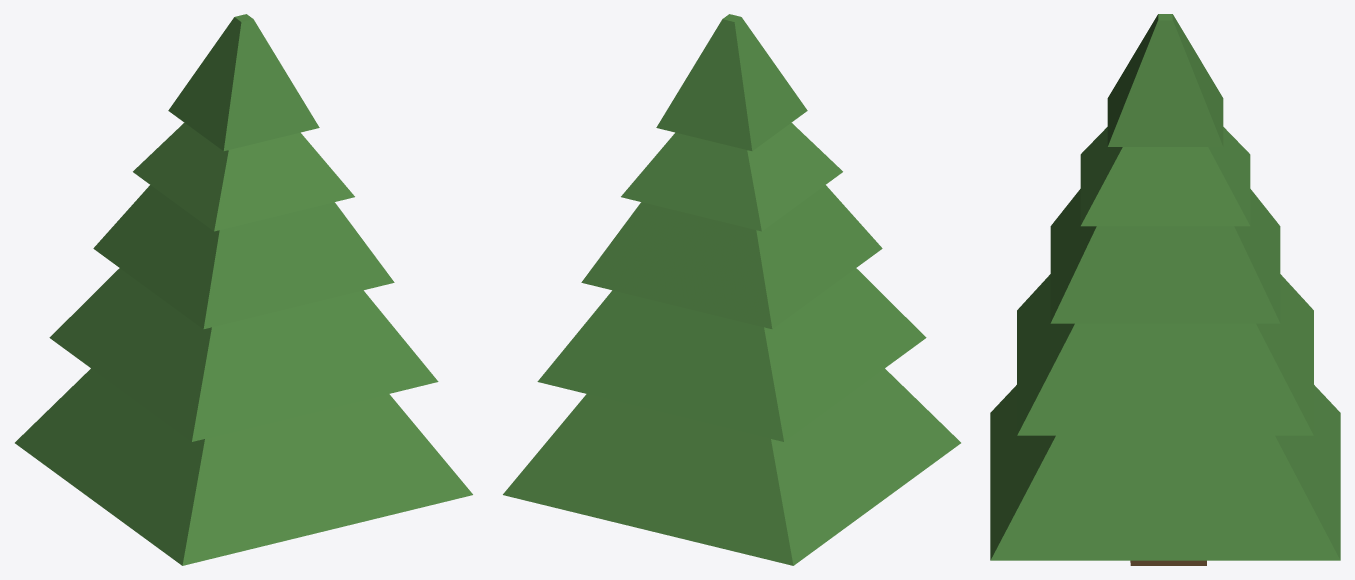
The model's file is tree3d-156.glb.
3 renders of one model, left to right at view 1: azimuth 30°, elevation 25°; view 2: azimuth 150°, elevation 25°; view 3: azimuth 270°, elevation 25°, orthographic. The views are drawn at different scales.
Parts seen in each view (by area): view 1: tree3d-156; view 2: tree3d-156; view 3: tree3d-156.
Boxes of the visible parts, x1,y1,x2,y2 form: tree3d-156: (15, 14, 472, 565); tree3d-156: (503, 14, 960, 565); tree3d-156: (990, 14, 1340, 565).
Size of the model in its own units: 0.5967 by 1 by 0.5967.
